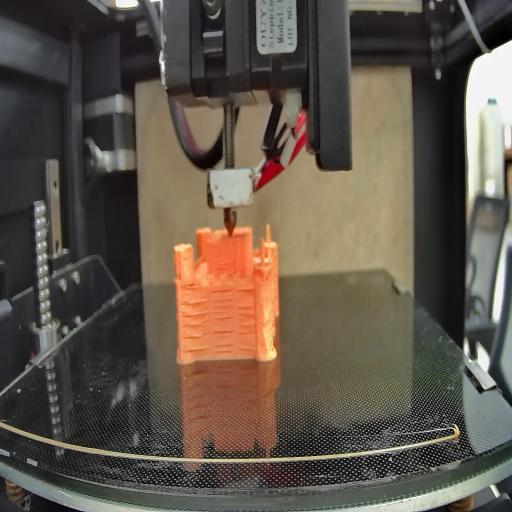cracks: (181, 300, 209, 354), (238, 303, 260, 351), (212, 287, 234, 321), (215, 327, 235, 354), (236, 284, 253, 294), (187, 280, 199, 289)
